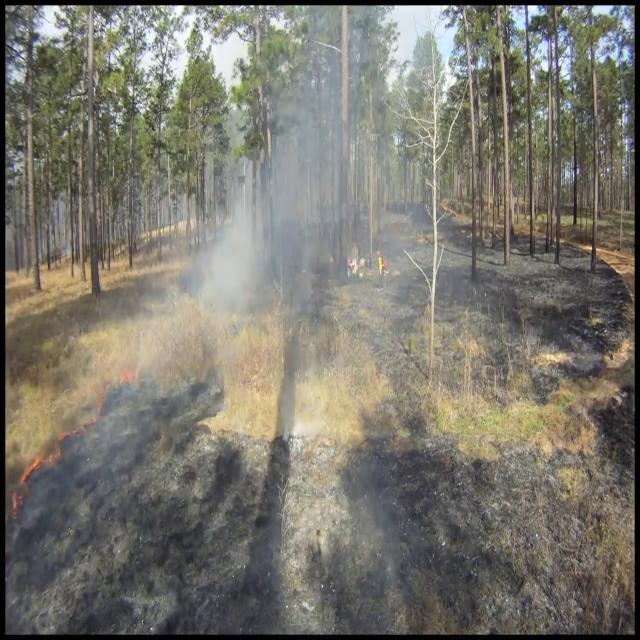Smoke: (181, 49, 401, 329)
